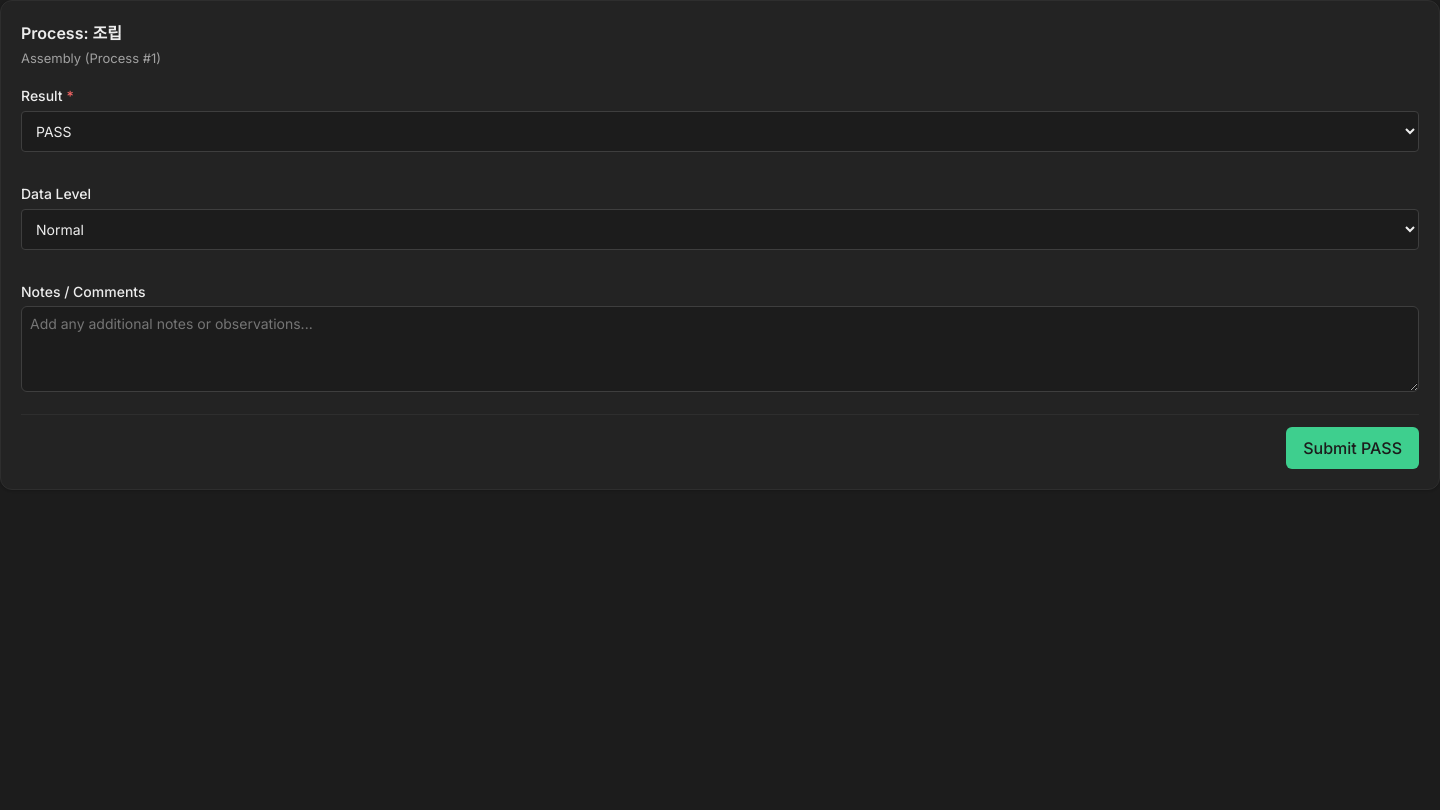
Test: MeasurementForm › shows defect codes when result is FAIL
Select "FAIL" in the dropdown labelled "Result*": (720, 131) [21,110,1419,152]
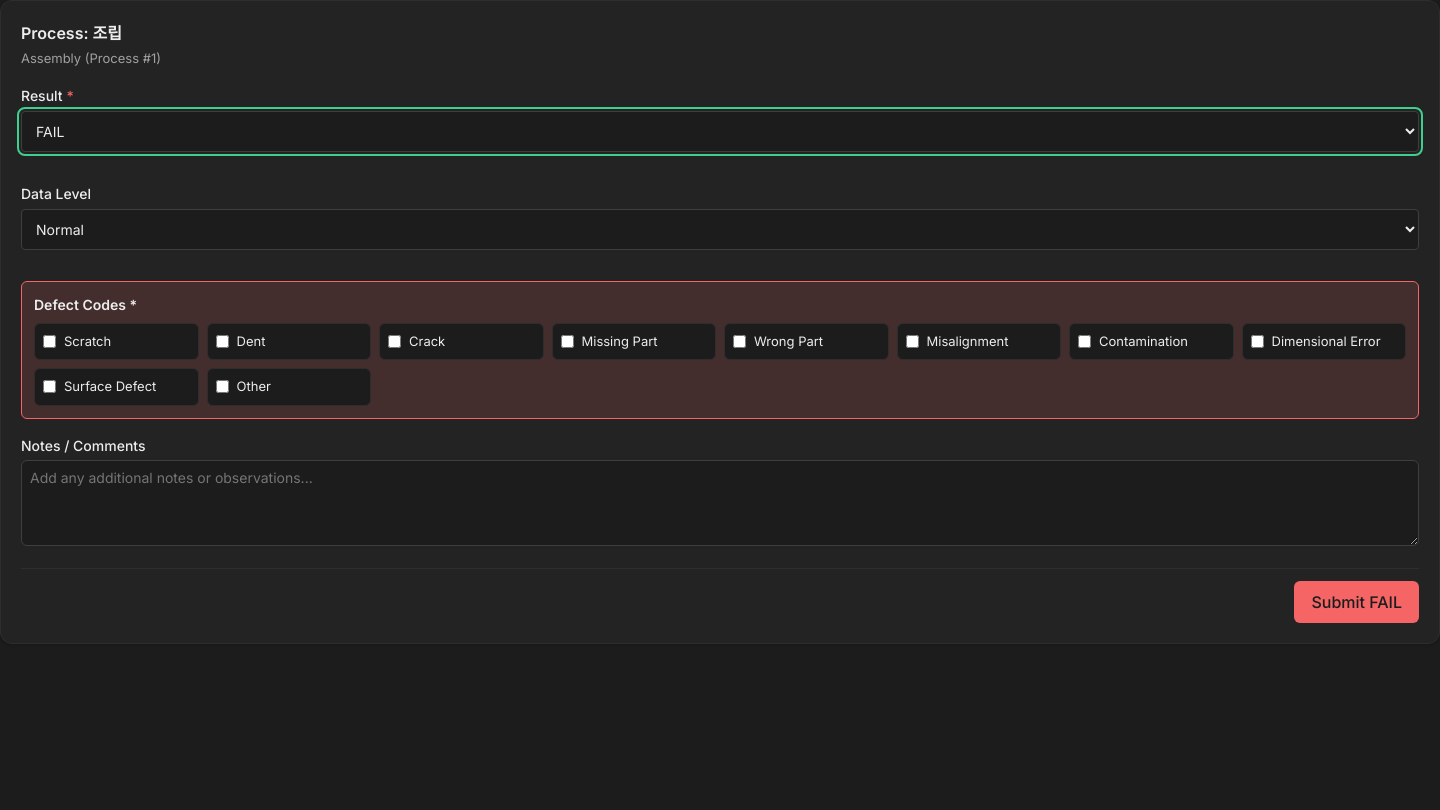
expect the text "Defect Codes *" is shown: met, box [34,296,137,312]
